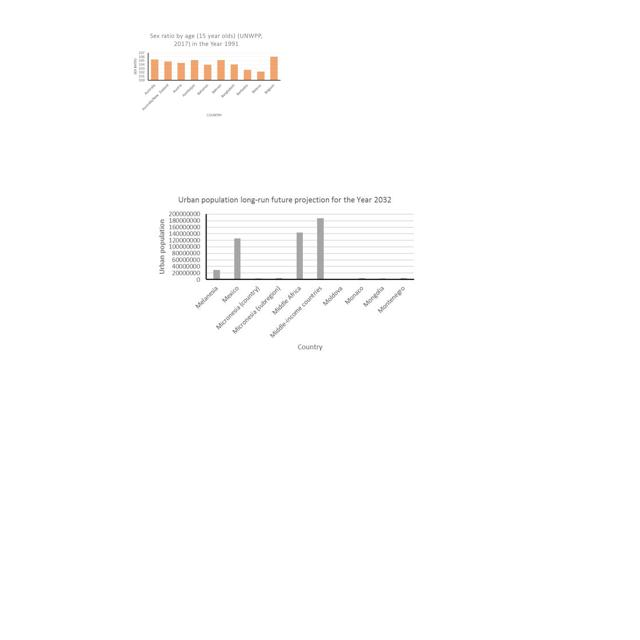Graph: (151, 191, 421, 353), (130, 30, 282, 118)
